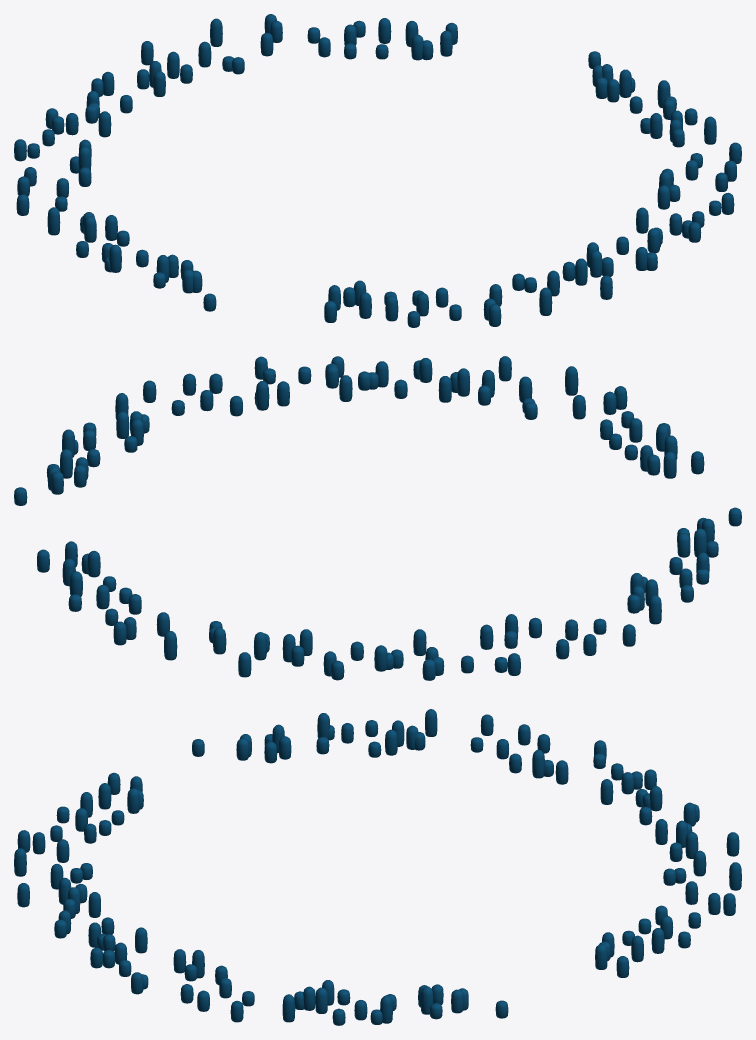
The model's file is Shrubs.fbx.
3 views of the same model, one above another, from view 1: azimuth 30°, elevation 25°; view 2: azimuth 150°, elevation 25°; view 3: azimuth 270°, elevation 25° (orthographic). The views are drawn at different scales.
Visible parts, largest first — view 1: Connect; view 2: Connect; view 3: Connect.
Boxes of the visible parts, <box> form: Connect: <box>14,14,741,327</box>; Connect: <box>14,356,741,680</box>; Connect: <box>14,709,741,1025</box>.
Size of the model in its own units: 3038 by 130 by 3169.
